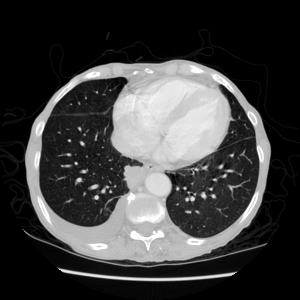nodule: (121, 164, 145, 188)
